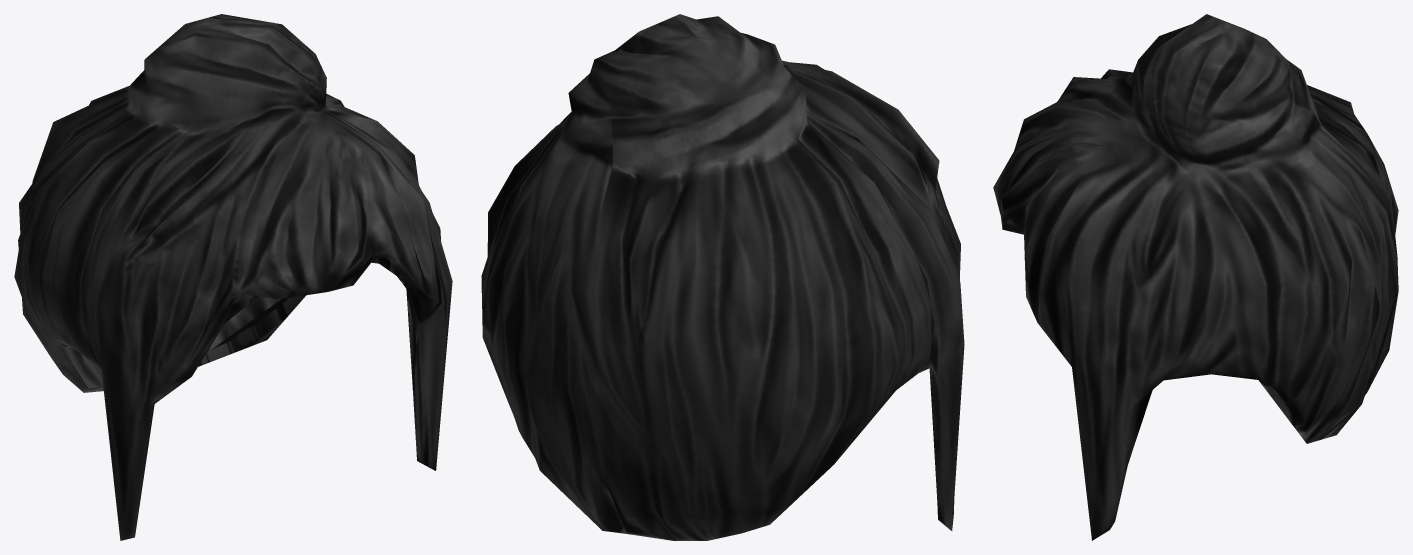
File: AF_M_hair_G_15.fbx
3 renders of one model, left to right at view 1: azimuth 30°, elevation 25°; view 2: azimuth 150°, elevation 25°; view 3: azimuth 270°, elevation 25°, orthographic. The views are drawn at different scales.
Visible parts, largest first — view 1: AF_M_hair_G_15; view 2: AF_M_hair_G_15; view 3: AF_M_hair_G_15.
Boxes of the visible parts, <box> form: AF_M_hair_G_15: <box>14,14,452,540</box>; AF_M_hair_G_15: <box>481,14,964,540</box>; AF_M_hair_G_15: <box>993,14,1398,540</box>.
Bounding box in the file's own units: 736 × 862 × 725.
